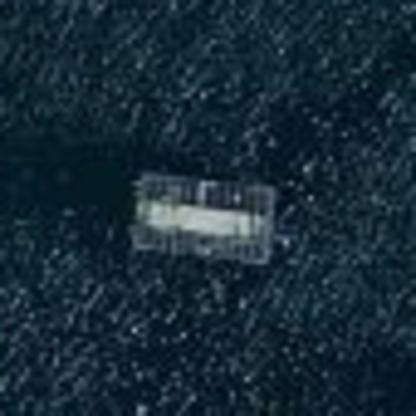ship: (117, 162, 284, 272)
